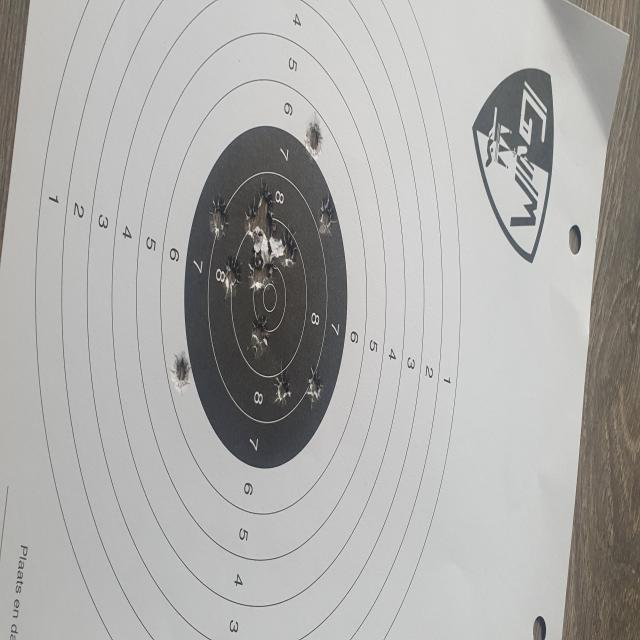10: (222, 255, 242, 300), (274, 360, 292, 406), (280, 232, 296, 270), (244, 204, 259, 237), (259, 217, 275, 247)
2: (250, 312, 270, 358), (250, 257, 264, 292), (262, 254, 276, 284)
7: (169, 351, 193, 395)
8: (303, 110, 324, 162), (317, 195, 338, 240)
9: (208, 193, 228, 239), (308, 360, 323, 406), (256, 186, 272, 217)
Black Contour: (182, 126, 348, 470)
Target: (36, 0, 462, 640)
